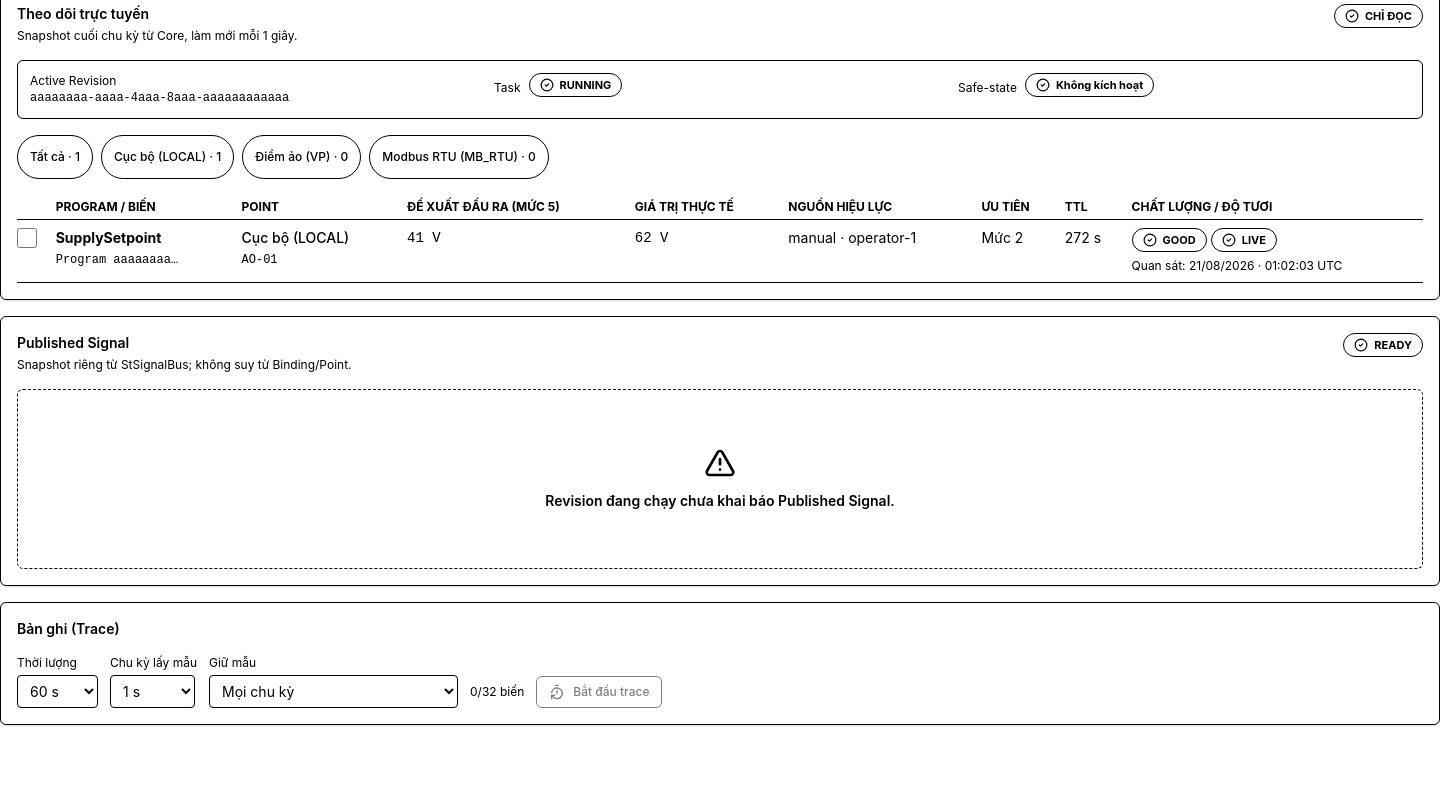
Test: WatchTab — T59-504 › trace chọn giữ mẫu khi đổi gửi ON_CHANGE và hiện chu kỳ Core
Select "Khi giá trị đổi (ghi được lâu hơn)" in the dropdown labelled "Giữ mẫu" at [334, 692], box [209,675,458,708]
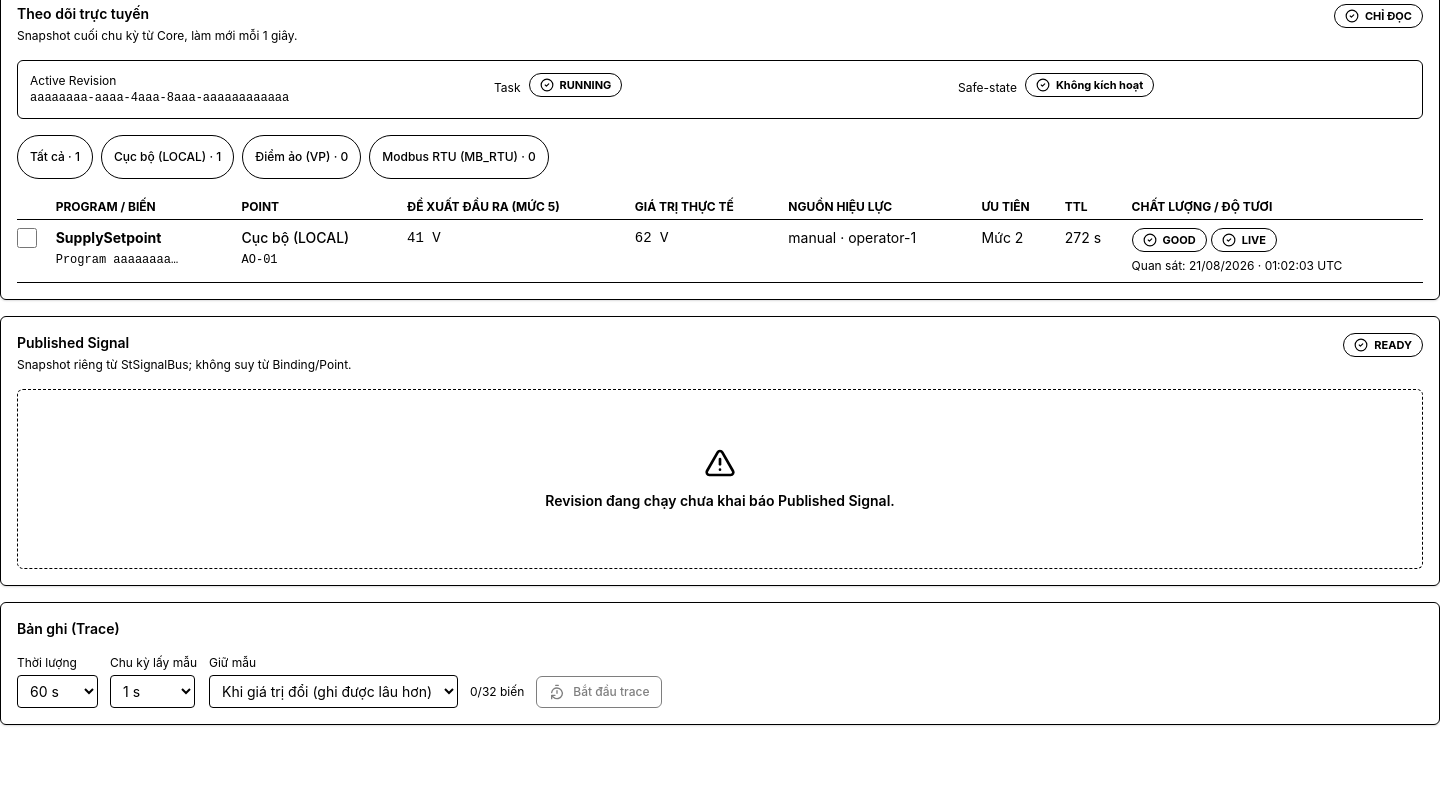
Click the checkbox named "Trace SupplySetpoint" at [27, 238], box [17,228,37,248]
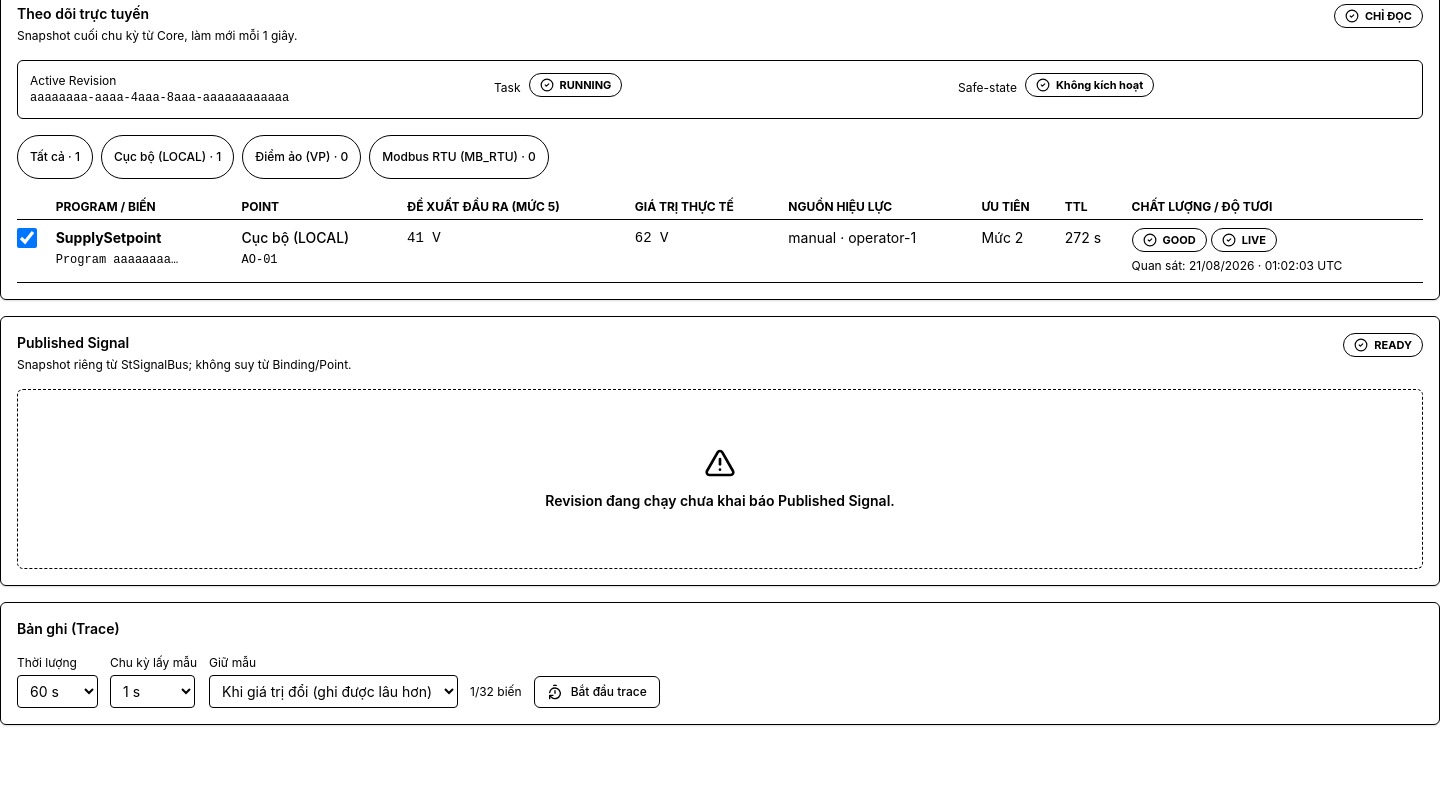
Click the button "Bắt đầu trace" at [597, 692], box [534,676,660,708]
(page scrolled)
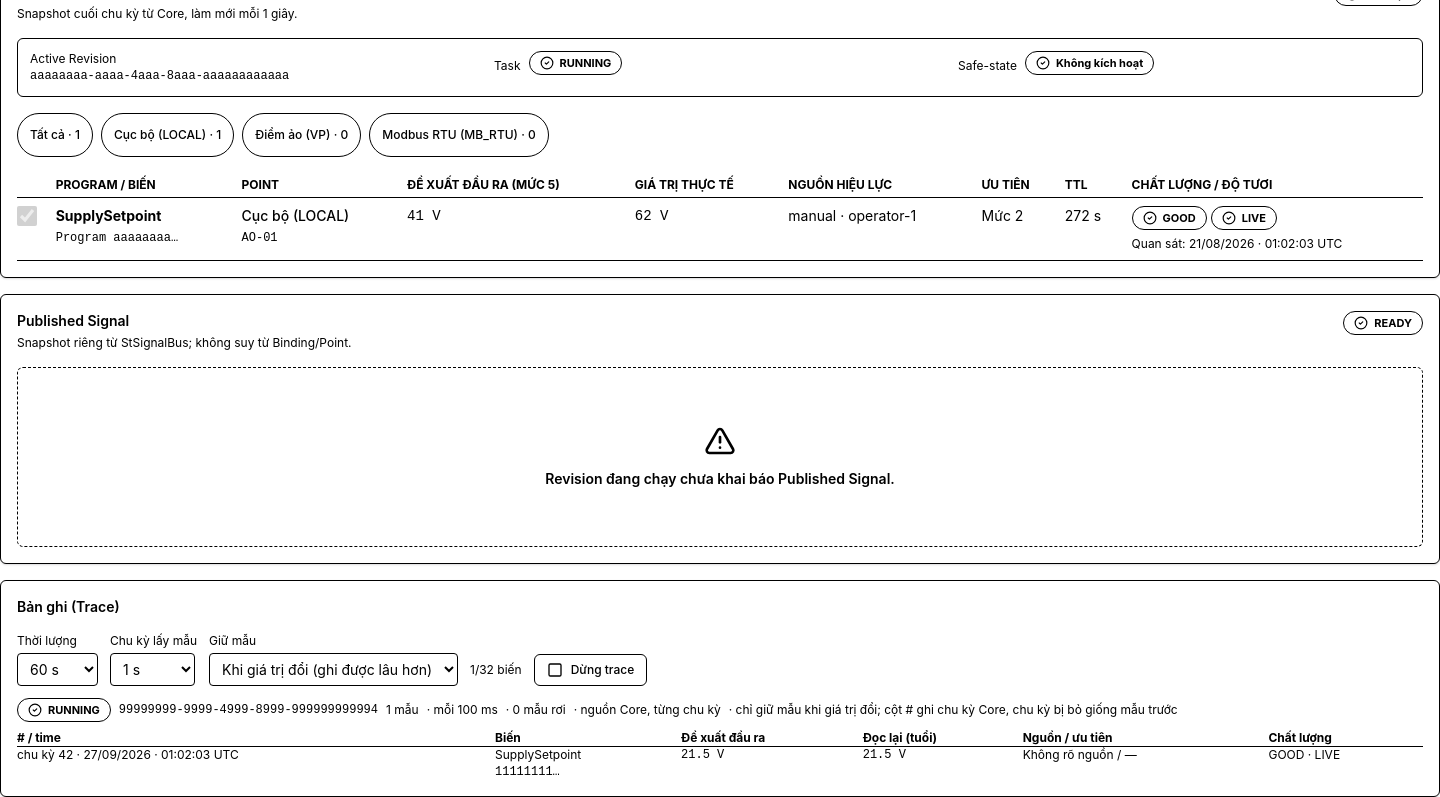
Expected: the text with test id "trace-sample-mode" shows "chỉ giữ mẫu khi giá trị đổi", [736,702,1178,717]
Expected: the text "chu kỳ 42 · 27/09/2026 · 01:02:03 UTC" is shown, [17,746,495,780]
